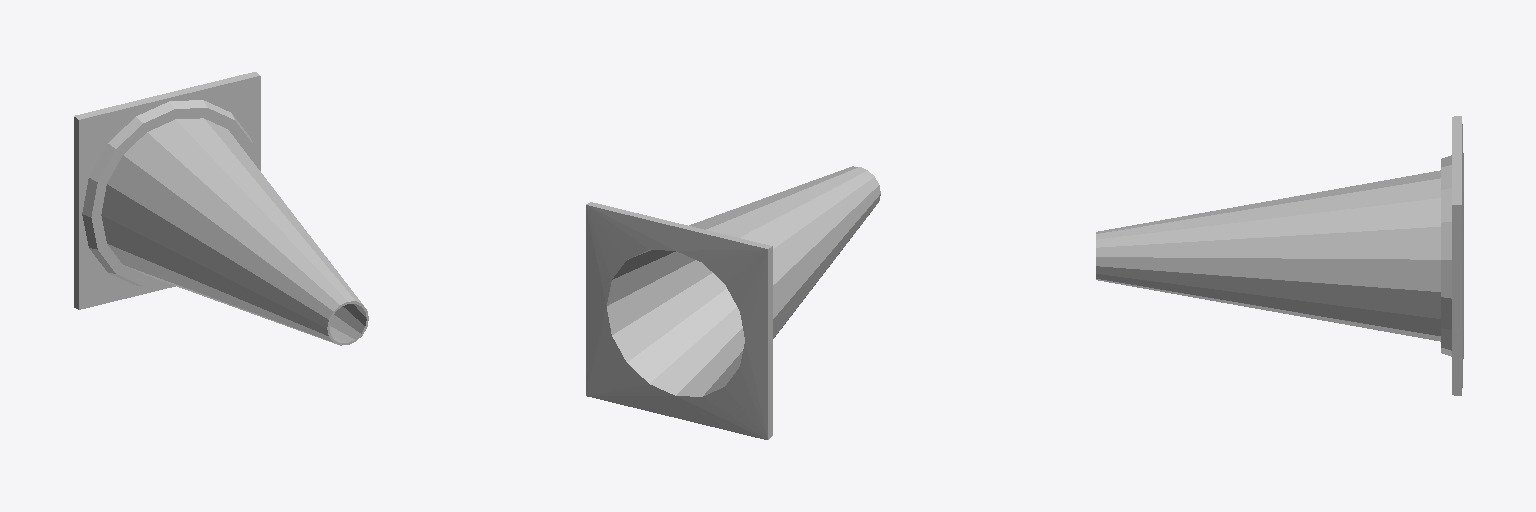
The model's file is pylon.obj.
The picture shows the model from 3 angles: view 1: azimuth 30°, elevation 25°; view 2: azimuth 150°, elevation 25°; view 3: azimuth 270°, elevation 25°; orthographic projection.
Parts seen in each view (by area): view 1: Pylon_Cone.001; view 2: Pylon_Cone.001; view 3: Pylon_Cone.001.
Part boxes in pixels (bbox=[...]): Pylon_Cone.001: bbox=[74, 72, 368, 345]; Pylon_Cone.001: bbox=[586, 166, 880, 439]; Pylon_Cone.001: bbox=[1096, 116, 1463, 395].
Bounding box in the file's own units: 0.3988 × 0.3988 × 0.6964.